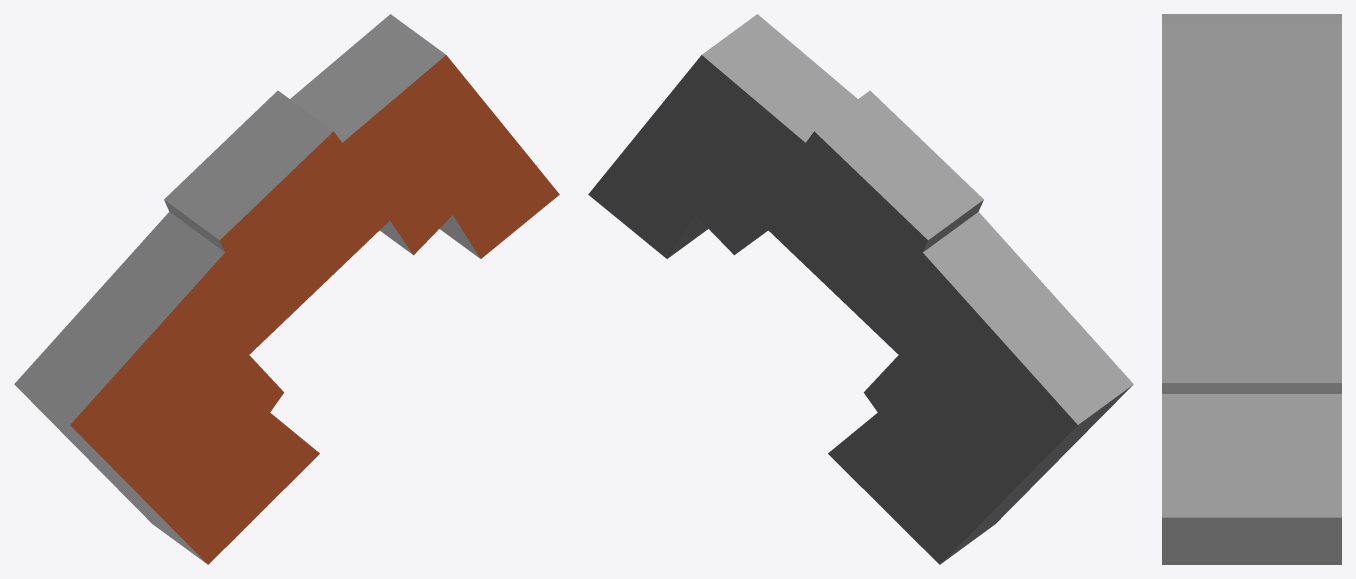
Rendered from construction_2963_assumed_A_Casa_h6m.obj.
The picture shows the model from 3 angles, left to right: view 1: azimuth 30°, elevation 25°; view 2: azimuth 150°, elevation 25°; view 3: azimuth 270°, elevation 25°; orthographic projection. The views are drawn at different scales.
Parts seen in each view (by area): view 1: construction_2963_assumed_A_Casa; view 2: construction_2963_assumed_A_Casa; view 3: construction_2963_assumed_A_Casa.
Part boxes in pixels (x1,y1,x2,y2): construction_2963_assumed_A_Casa: (14, 14, 559, 564); construction_2963_assumed_A_Casa: (588, 14, 1133, 564); construction_2963_assumed_A_Casa: (1162, 14, 1341, 564).
Bounding box in the file's own units: 30.39 × 26.8 × 6.
